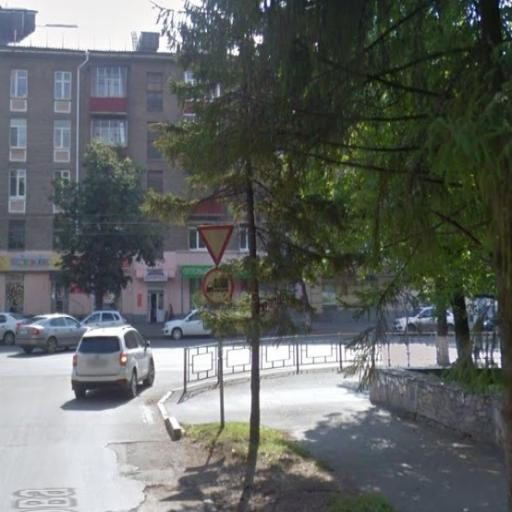traffic_sign: (196, 222, 237, 268), (201, 264, 240, 310)
